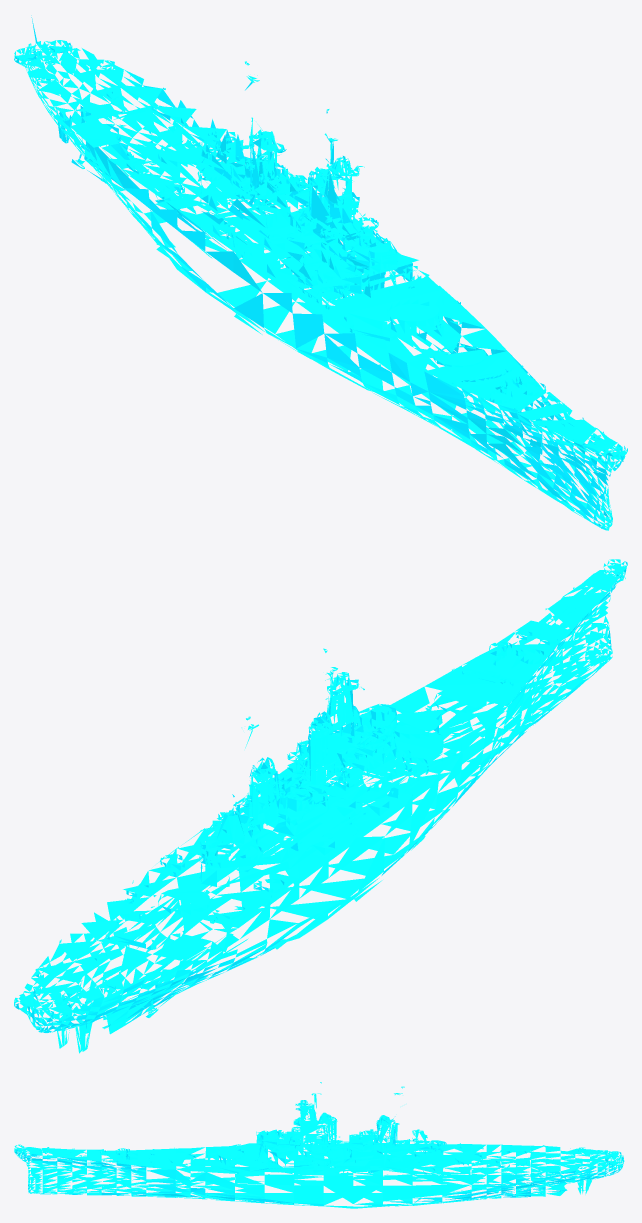
Rendered from Wisconsin.glb.
3 renders of one model, top to bottom at view 1: azimuth 30°, elevation 25°; view 2: azimuth 150°, elevation 25°; view 3: azimuth 270°, elevation 25°, orthographic. The views are drawn at different scales.
Bounding box in the file's own units: 2.26 × 3.64 × 18.13.
